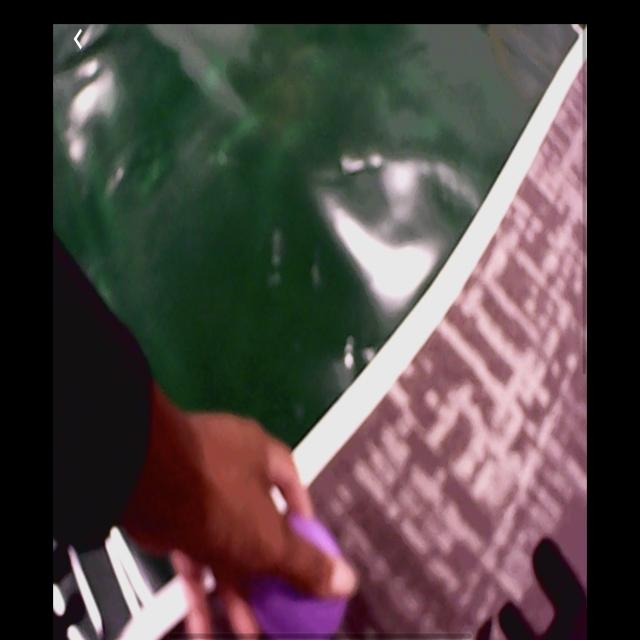ball: (256, 512, 350, 639)
